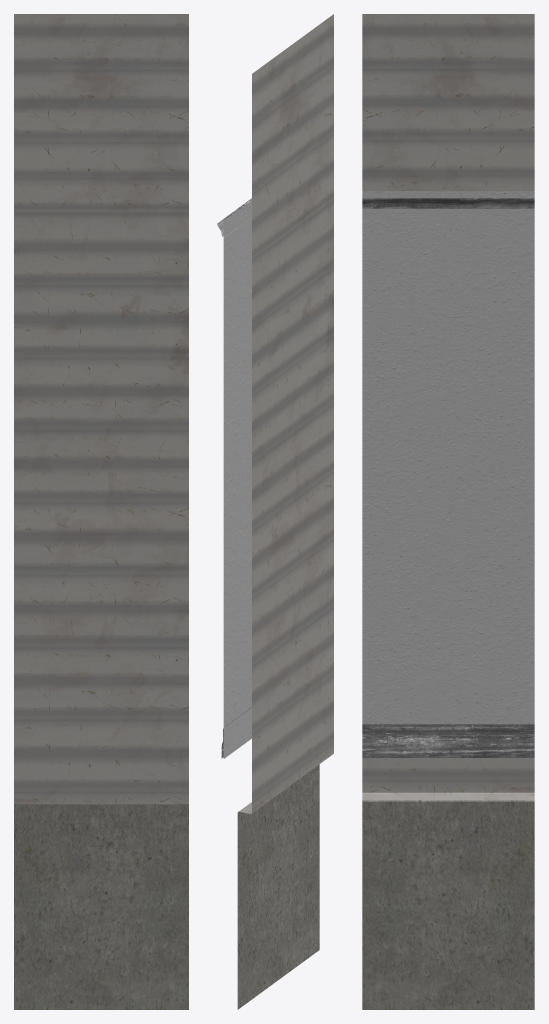
Rendered from SM_Wall_Floor1_100.fbx.
3 views of the same model, side by side, from view 1: azimuth 90°, elevation 25°; view 2: azimuth 150°, elevation 25°; view 3: azimuth 270°, elevation 25° (orthographic). The views are drawn at different scales.
Visible parts, largest first — view 1: SM_Wall_Floor1_100; view 2: SM_Wall_Floor1_100; view 3: SM_Wall_Floor1_100.
Part boxes in pixels (box(x1,y1,x2,y2)): SM_Wall_Floor1_100: box(14, 14, 188, 1009); SM_Wall_Floor1_100: box(217, 14, 333, 1009); SM_Wall_Floor1_100: box(362, 14, 534, 1009).
Bounding box in the file's own units: 17.23 × 70 × 443.
4 materials, 4 textured.
